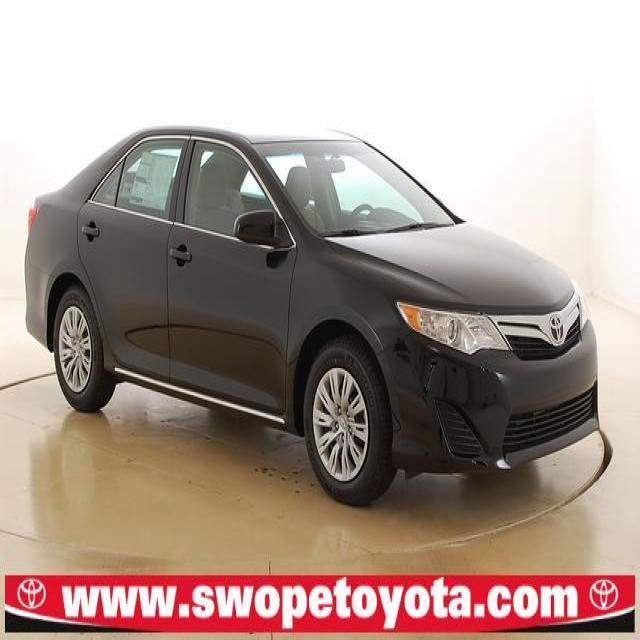Car: (12, 87, 606, 503)
